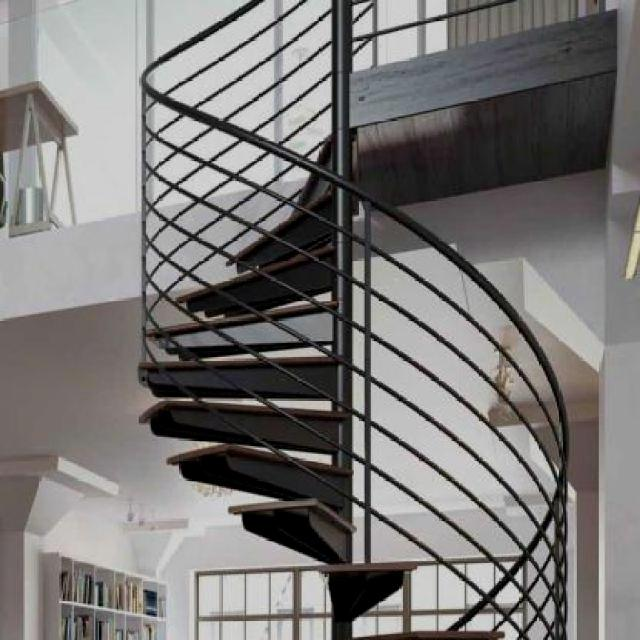stair: (123, 0, 620, 615)
